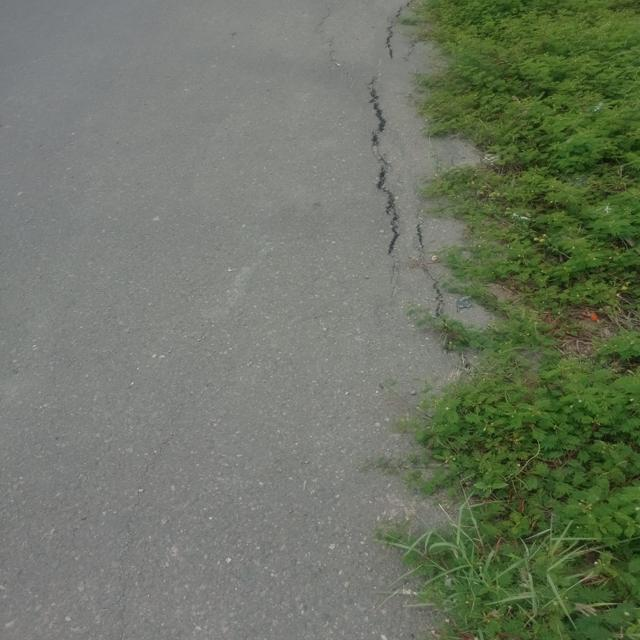Pinggir: (345, 0, 582, 536)
